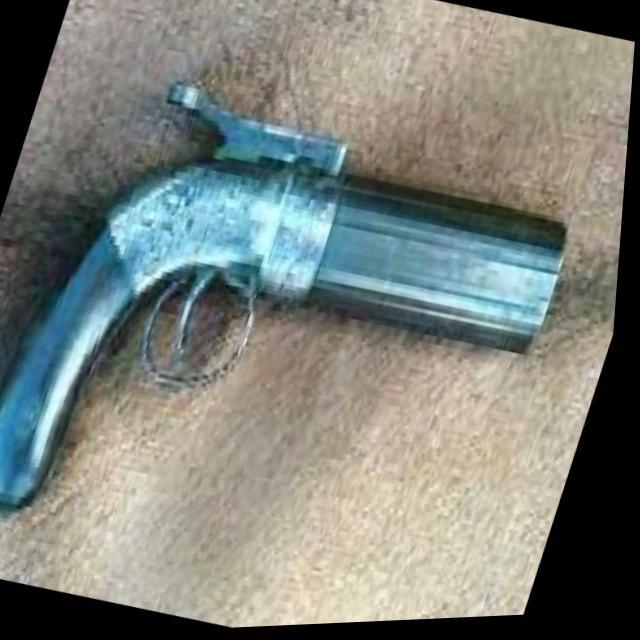weapon: (0, 40, 607, 622)
